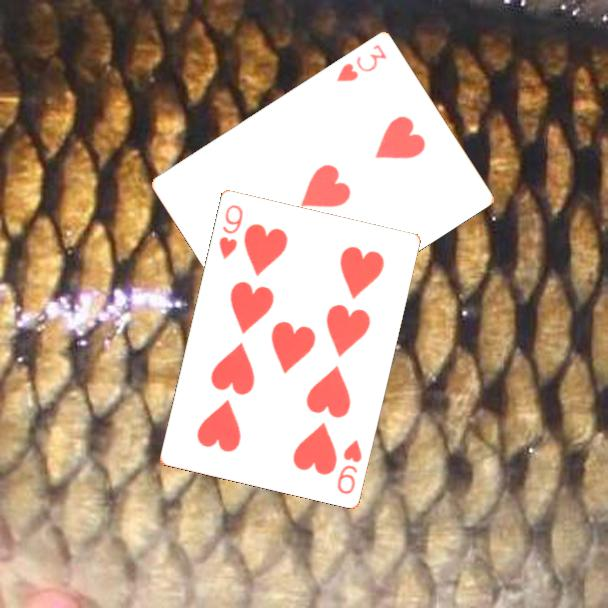h03: (333, 40, 390, 84)
h09: (333, 436, 365, 497), (215, 201, 246, 262)
